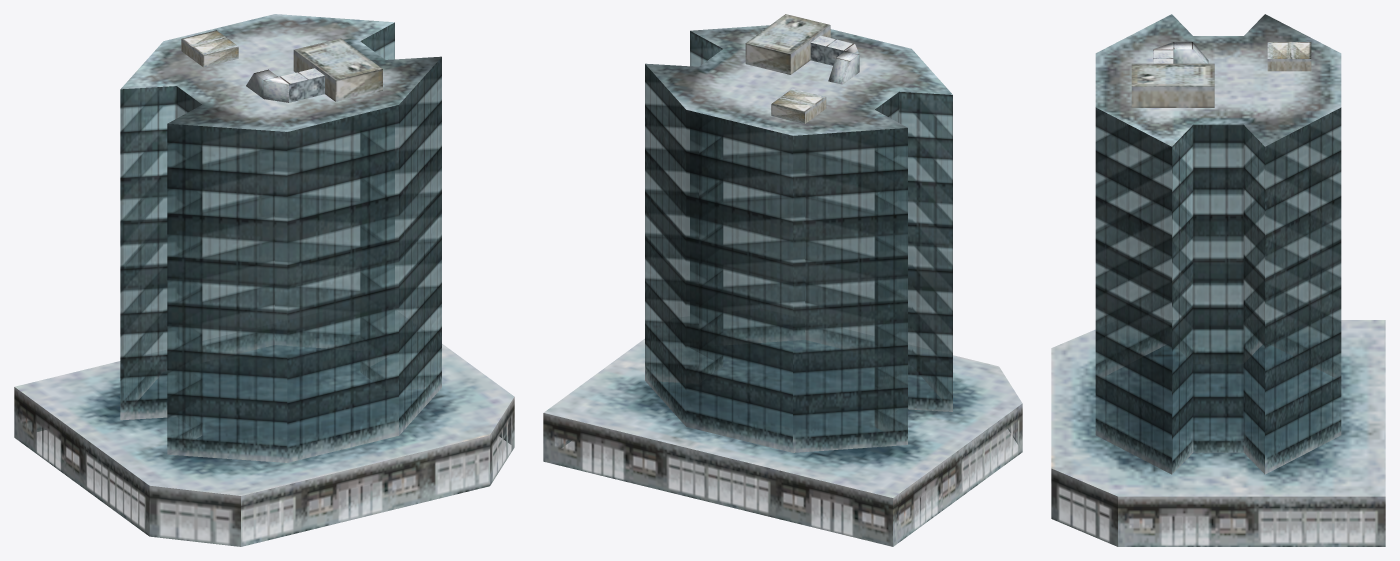
The model's file is Civilian - Commercial Building - Asian Bank - Snow and Night - CBNBank_sn.glb.
The picture shows the model from 3 angles, left to right: view 1: azimuth 30°, elevation 25°; view 2: azimuth 150°, elevation 25°; view 3: azimuth 270°, elevation 25°; orthographic projection. The views are drawn at different scales.
Parts seen in each view (by area): view 1: CBNBANK_SN; view 2: CBNBANK_SN; view 3: CBNBANK_SN.
Part boxes in pixels (left/top/right/bottom): CBNBANK_SN: left=14, top=14, right=514, bottom=546; CBNBANK_SN: left=543, top=14, right=1022, bottom=546; CBNBANK_SN: left=1051, top=14, right=1385, bottom=546.
Bounding box in the file's own units: 100 × 106 × 80.
Materials: 1 (1 with a texture image).
